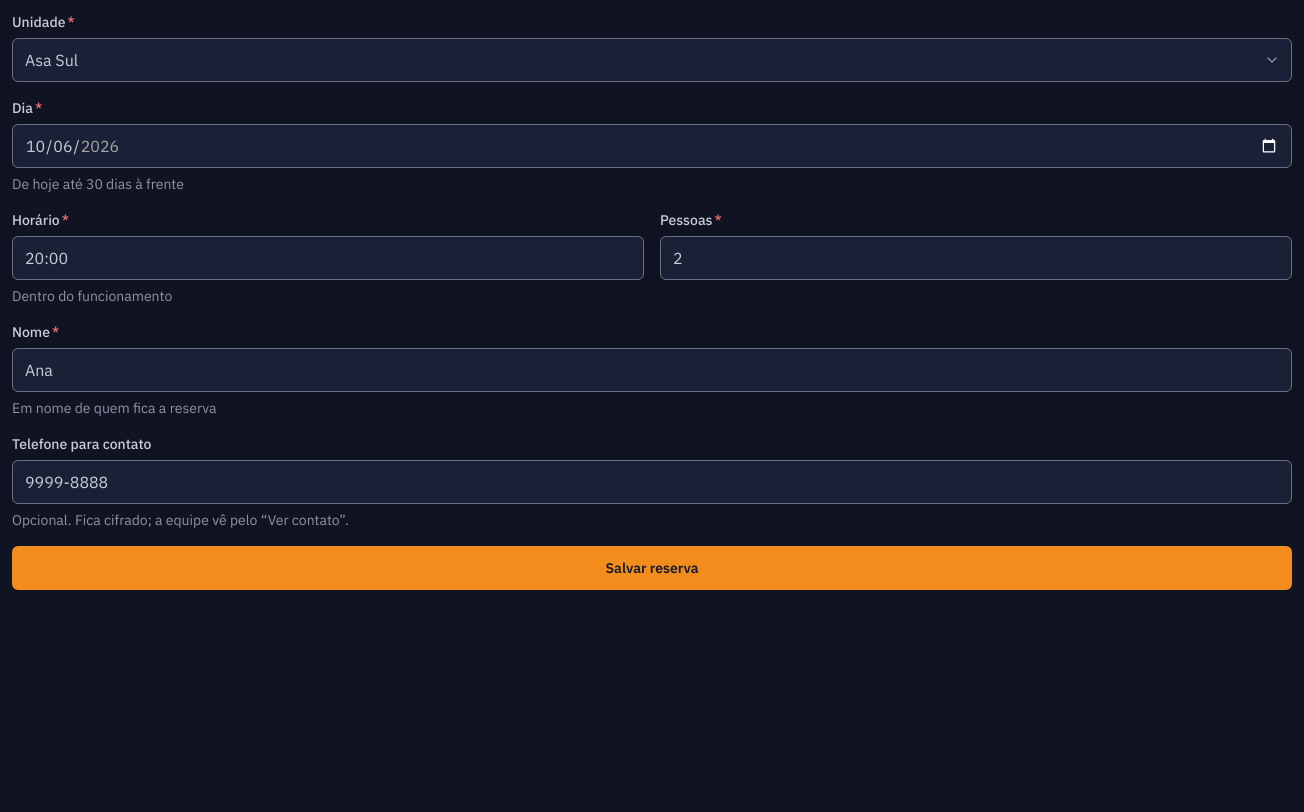
Test: ReservaForm › telefone de contato inválido não envia
Click the button "Salvar reserva" at [652, 568], box top-left (12, 546), bottom-right (1292, 590)
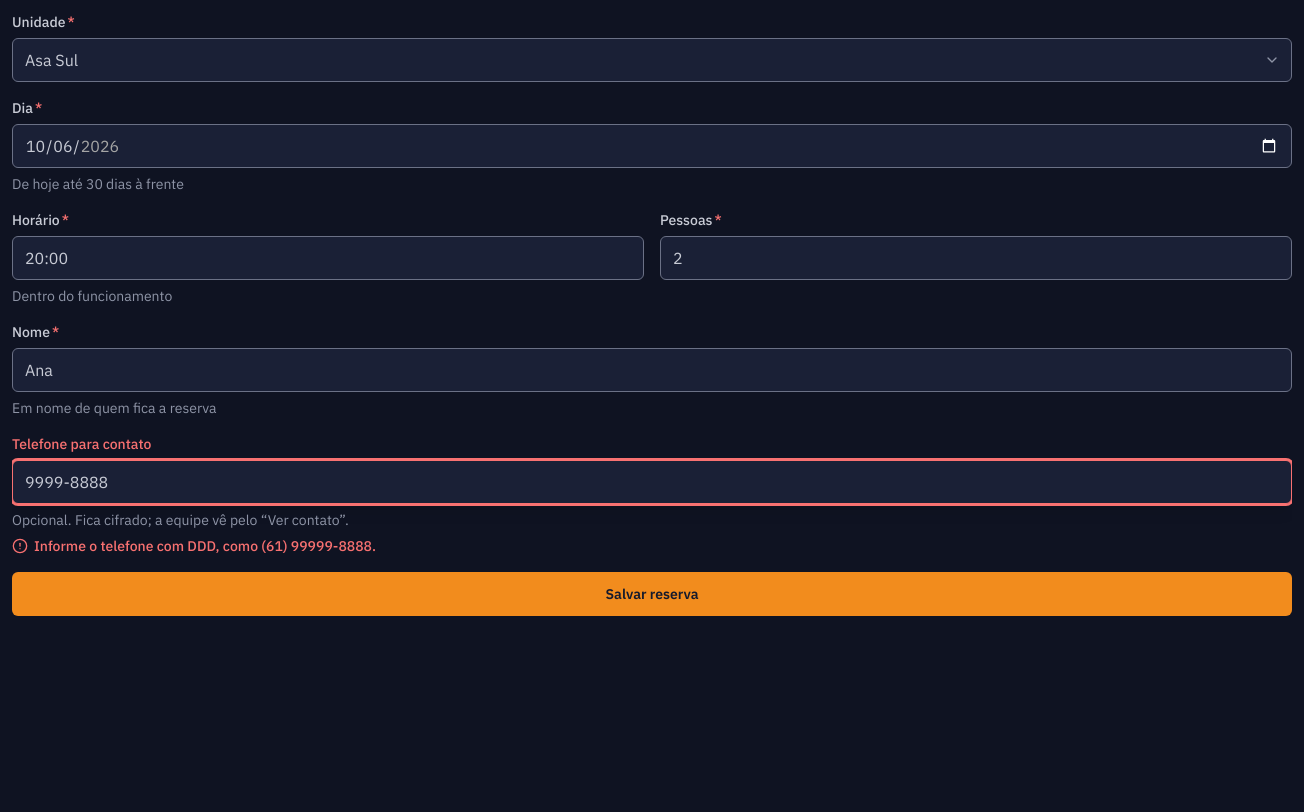
Now the text "Informe o telefone com DDD, como (61) 99999-8888." is shown, box top-left (12, 537), bottom-right (376, 555)
